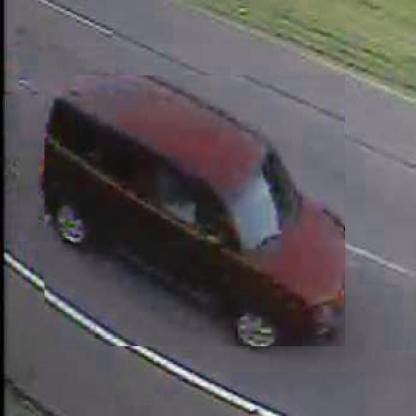car: (46, 76, 348, 349)
